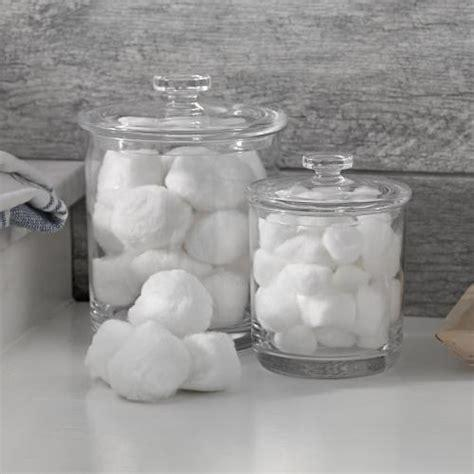cotton: (108, 152, 243, 338), (251, 194, 397, 355), (107, 318, 190, 400), (113, 273, 210, 334), (187, 329, 244, 397), (83, 316, 130, 384)
